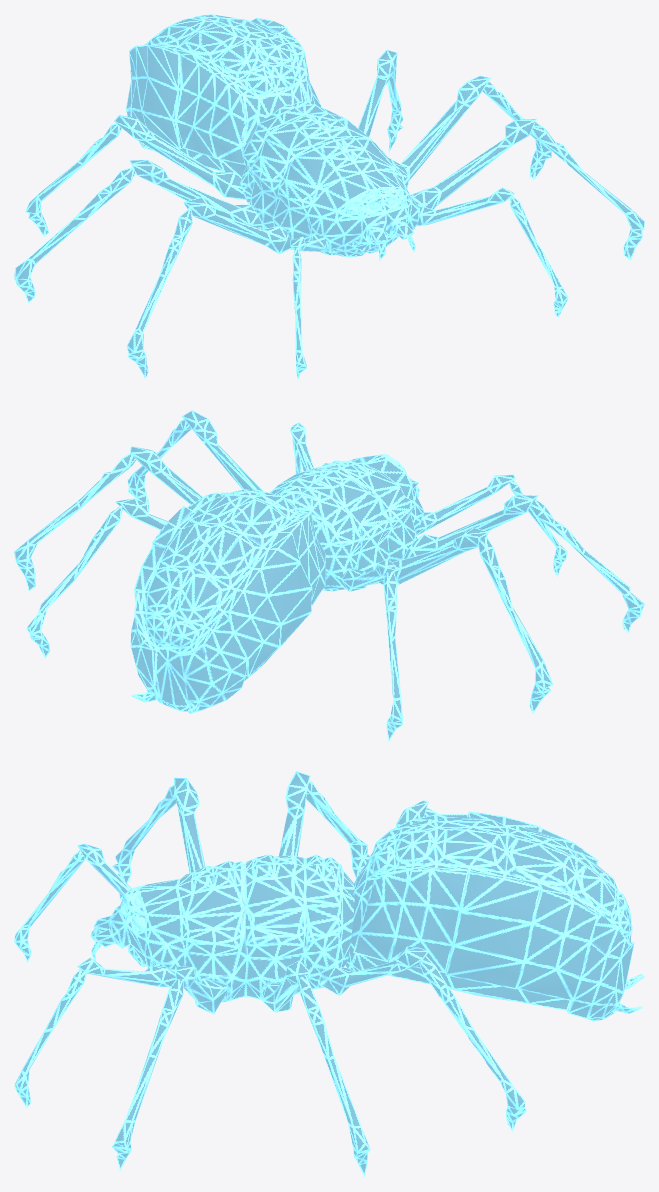
Rendered from spider.gltf.
The picture shows the model from 3 angles, top to bottom: view 1: azimuth 30°, elevation 25°; view 2: azimuth 150°, elevation 25°; view 3: azimuth 270°, elevation 25°; orthographic projection. The views are drawn at different scales.
Parts seen in each view (by area): view 1: body, legs; view 2: body, legs; view 3: body, legs.
Part boxes in pixels (x1,y1,x2,y2): body: (126,14,420,261); legs: (14,50,644,380); body: (130,454,424,713); legs: (14,410,644,742); body: (90,811,644,1021); legs: (14,771,526,1177).
Size of the model in its own units: 10.07 by 3.29 by 8.94.
Materials: 2 (2 with a texture image).
